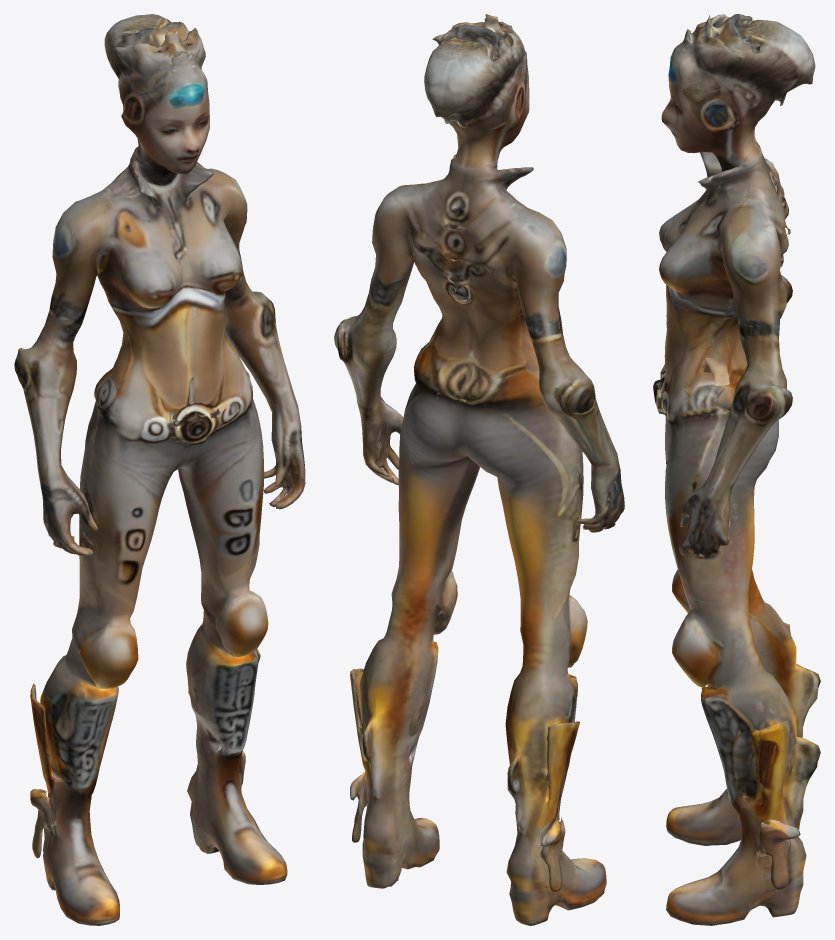
The model's file is steam-fitter-girl.glb.
3 renders of one model, left to right at view 1: azimuth 30°, elevation 25°; view 2: azimuth 150°, elevation 25°; view 3: azimuth 270°, elevation 25°, orthographic.
Visible parts, largest first — view 1: Mesh1_Mesh1.007; view 2: Mesh1_Mesh1.007; view 3: Mesh1_Mesh1.007.
Part boxes in pixels (bbox=[...]): Mesh1_Mesh1.007: bbox=[14, 14, 305, 925]; Mesh1_Mesh1.007: bbox=[334, 14, 624, 925]; Mesh1_Mesh1.007: bbox=[653, 14, 820, 925].
Size of the model in its own units: 0.6225 by 1.99 by 0.3528.
Materials: 1 (1 with a texture image).
